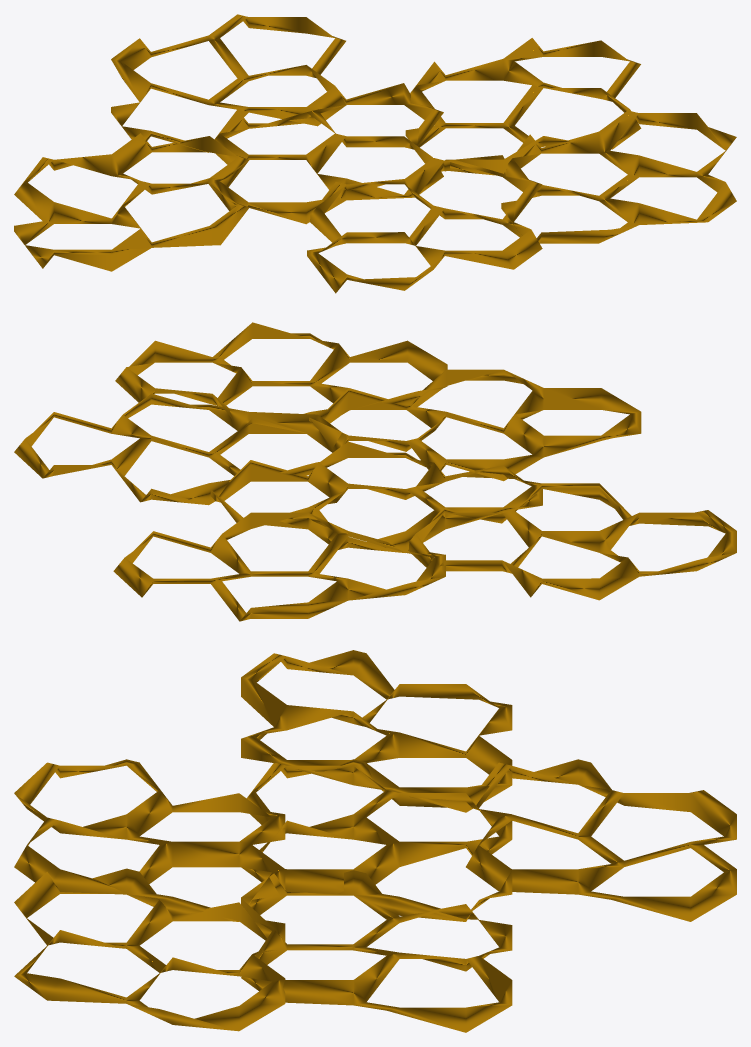
File: honey-comb-hat-my-guy_atnjipGFNO_lod1.glb
The picture shows the model from 3 angles, top to bottom: view 1: azimuth 30°, elevation 25°; view 2: azimuth 150°, elevation 25°; view 3: azimuth 270°, elevation 25°; orthographic projection. The views are drawn at different scales.
Visible parts, largest first — view 1: HoneyComb.005; view 2: HoneyComb.005; view 3: HoneyComb.005.
Boxes of the visible parts, bbox=[...] form: HoneyComb.005: bbox=[14, 14, 736, 293]; HoneyComb.005: bbox=[14, 322, 736, 621]; HoneyComb.005: bbox=[14, 650, 736, 1032].
Bounding box in the file's own units: 5.73 × 0.14 × 4.82.
